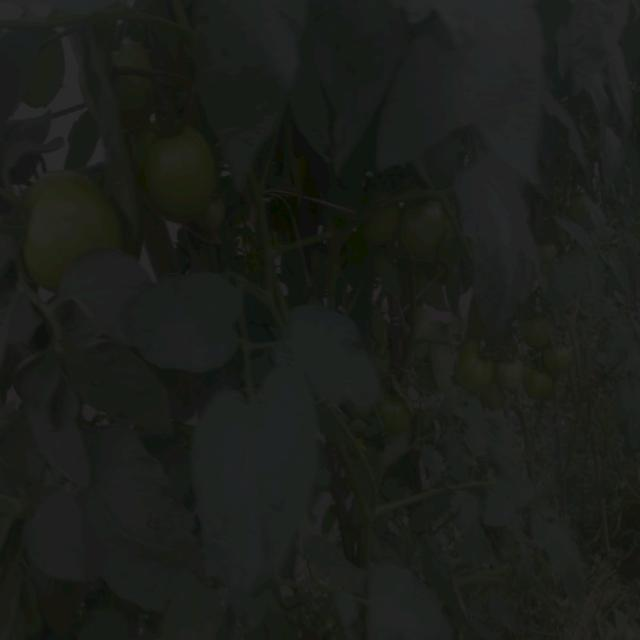tomato: (20, 168, 119, 267), (145, 129, 217, 222), (406, 202, 447, 272), (460, 340, 498, 398), (369, 203, 407, 254), (378, 390, 411, 437), (527, 319, 566, 355), (196, 202, 228, 243), (526, 364, 556, 405), (495, 353, 520, 395), (552, 341, 579, 371), (542, 239, 567, 271)
